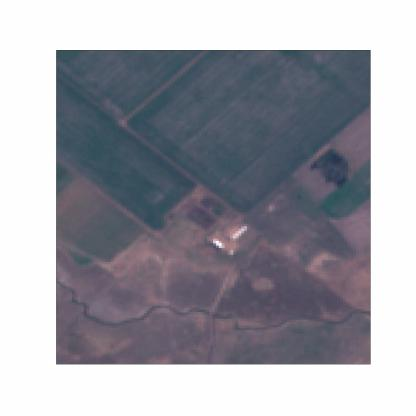silobolsa: (228, 220, 252, 243), (212, 234, 228, 255)
